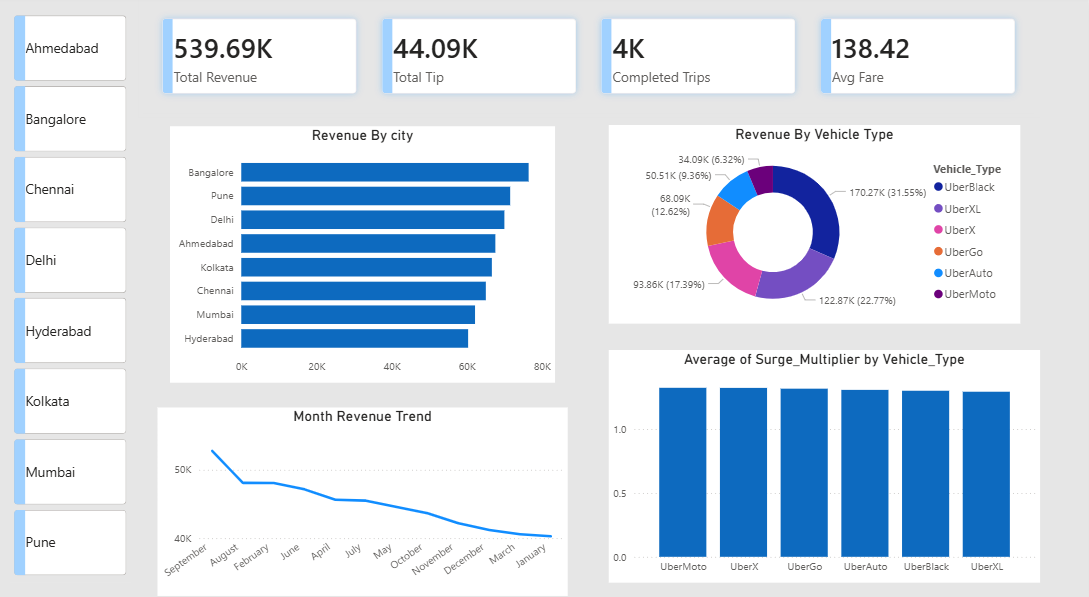

This screenshot's page, from the dashboard's own definition file:
{"tool":"powerbi","page":{"name":"Revenue Overview ","canvas":[1280,720],"ordinal":0},"visuals":[{"type":"cardVisual","fields":{"Data":["measure.Total Revenue","measure.Total Tip","measure.Completed Trips","measure.Avg Fare"]},"box":[163.2,0,1059.8,144.1],"z":0},{"type":"barChart","title":"Revenue By city ","fields":{"Category":["Trips_Data.City"],"Y":["Sum(Trips_Data.Fare_Amount)"]},"box":[199.9,154.3,452.7,301.3],"z":1000},{"type":"lineChart","title":"Month Revenue Trend ","fields":{"Category":["Trips_Data.Month"],"Y":["measure.Total Revenue"]},"box":[185.2,485.1,482.1,222],"z":2000},{"type":"donutChart","title":"Revenue By Vehicle Type ","fields":{"Category":["Trips_Data.Vehicle_Type"],"Y":["measure.Total Revenue"]},"box":[715.9,152.9,483.6,233.7],"z":3000},{"type":"columnChart","fields":{"Category":["Trips_Data.Vehicle_Type"],"Y":["Avg(Trips_Data.Surge_Multiplier)"]},"box":[715.9,417.5,507.1,273.4],"z":4000},{"type":"advancedSlicerVisual","fields":{"Values":["Trips_Data.City"]},"box":[11.8,19.1,142.6,671.8],"z":5000}]}

Visuals, with their boxes in screenshot pixels (x1, y1, x2, y2), scaled from the page's 1280x720 canvas onto the 1089x597 screenshot:
cardVisual - measure.Total Revenue x measure.Total Tip: [left=139, top=0, right=1041, bottom=119]
"Revenue By city " barChart: [left=170, top=128, right=555, bottom=378]
"Month Revenue Trend " lineChart: [left=158, top=402, right=568, bottom=586]
"Revenue By Vehicle Type " donutChart: [left=609, top=127, right=1021, bottom=321]
columnChart - Trips_Data.Vehicle_Type x Avg(Trips_Data.Surge_Multiplier): [left=609, top=346, right=1041, bottom=573]
advancedSlicerVisual - Trips_Data.City: [left=10, top=16, right=131, bottom=573]
